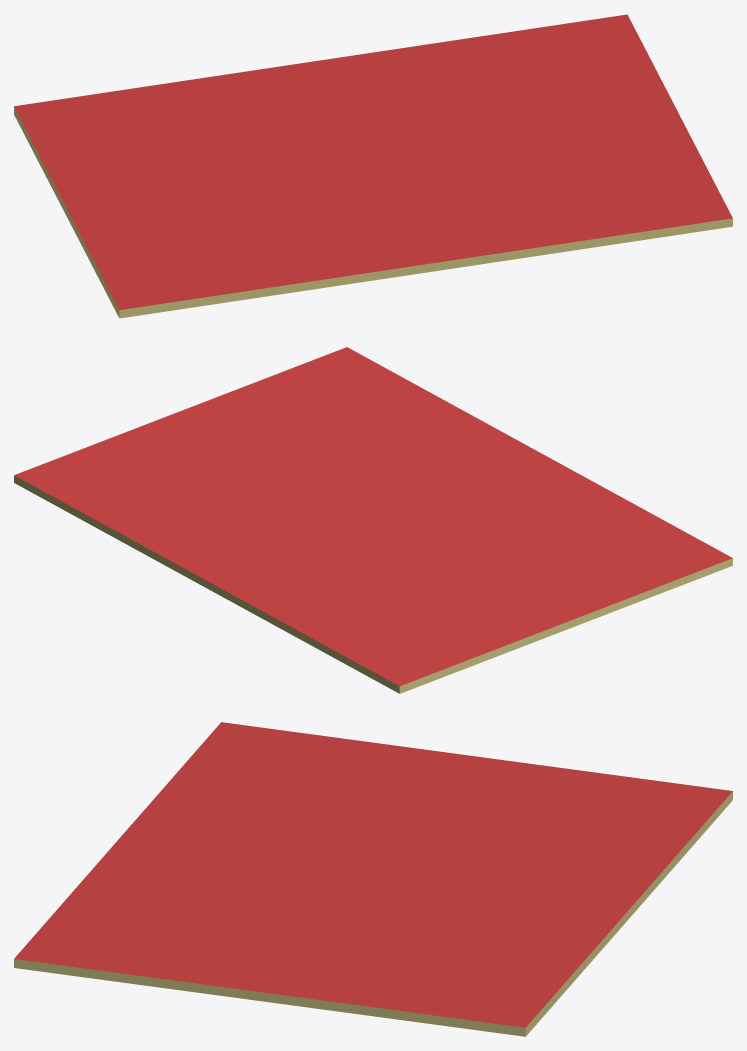
3 views of the same model, one above another, from view 1: azimuth 30°, elevation 25°; view 2: azimuth 150°, elevation 25°; view 3: azimuth 270°, elevation 25° (orthographic). The views are drawn at different scales.
Size of the model in its own units: 8.12 by 7.17 by 0.521.
